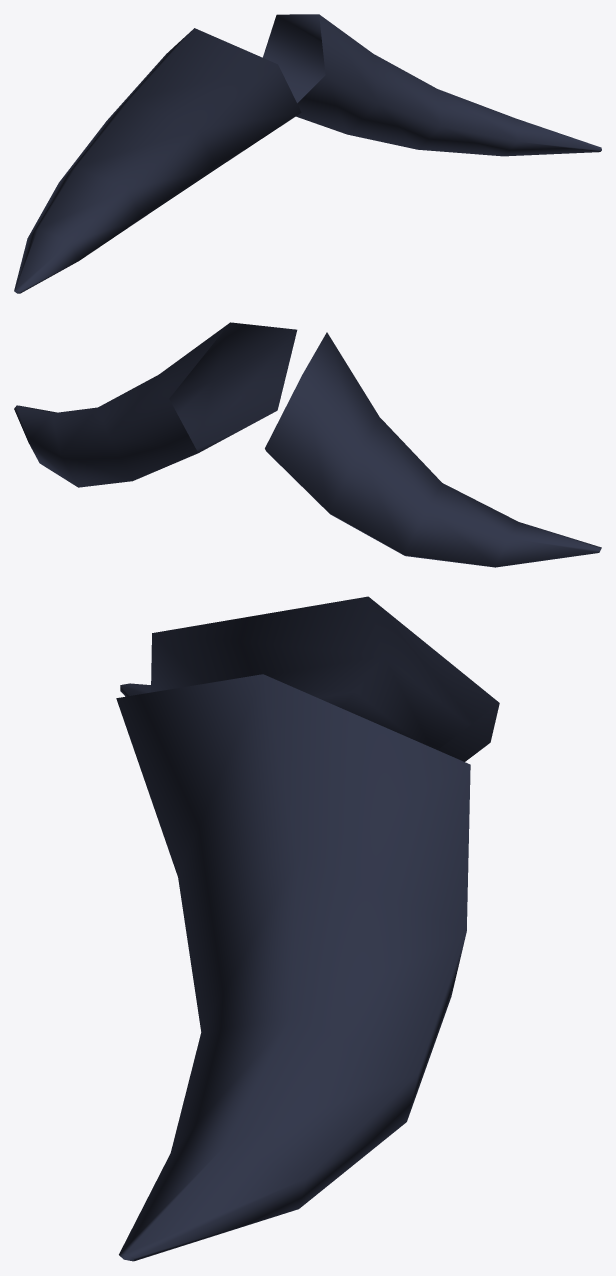
The model's file is anime_mustache.glb.
3 renders of one model, top to bottom at view 1: azimuth 30°, elevation 25°; view 2: azimuth 150°, elevation 25°; view 3: azimuth 270°, elevation 25°, orthographic. The views are drawn at different scales.
Visible parts, largest first — view 1: beard; view 2: beard; view 3: beard.
Boxes of the visible parts, bbox=[...] form: beard: bbox=[14, 14, 601, 293]; beard: bbox=[14, 322, 601, 567]; beard: bbox=[116, 596, 499, 1261].
Size of the model in its own units: 0.1205 by 0.0353 by 0.0342.
